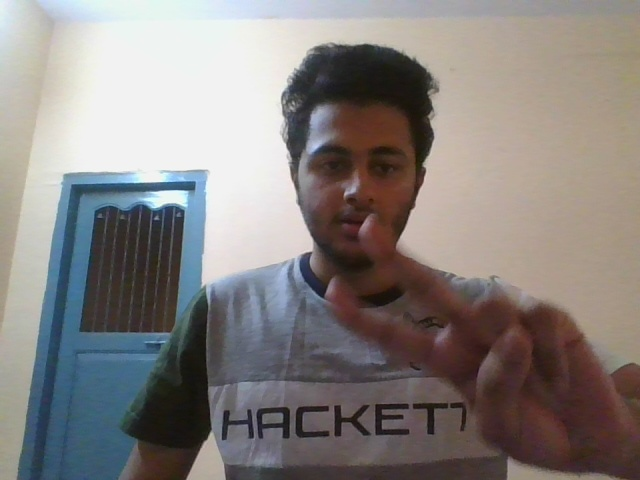Peace: (313, 209, 608, 476)
